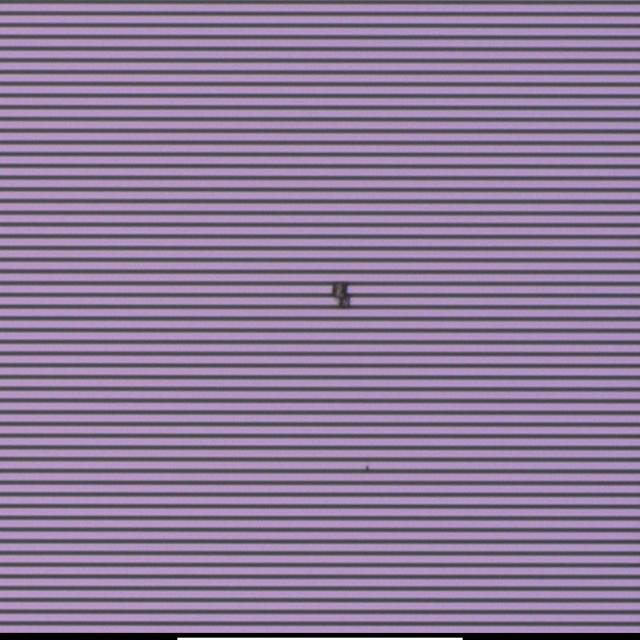03_intrusion: (333, 278, 353, 310), (364, 460, 374, 475)
